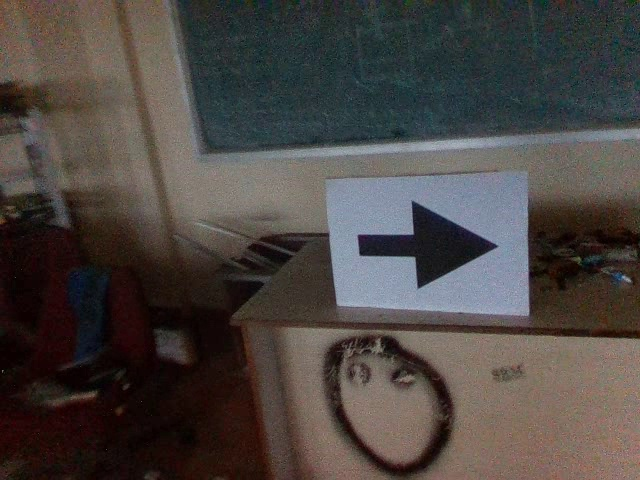Right: (351, 192, 502, 294)
